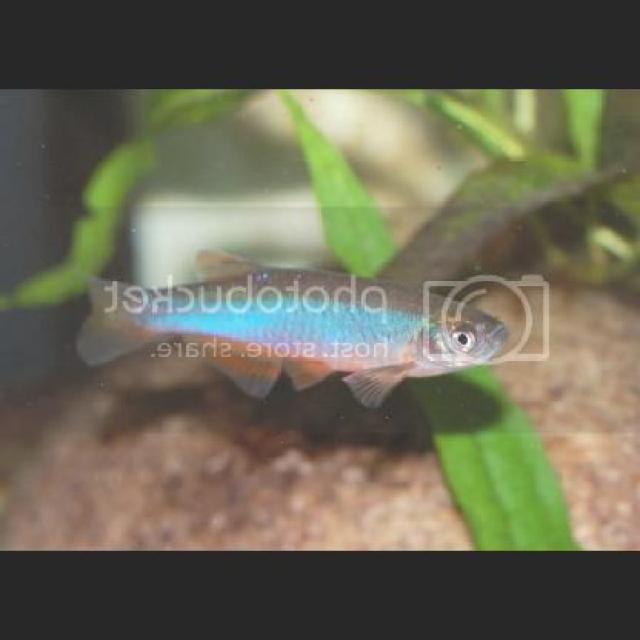ZebraFish: (77, 267, 511, 391)
